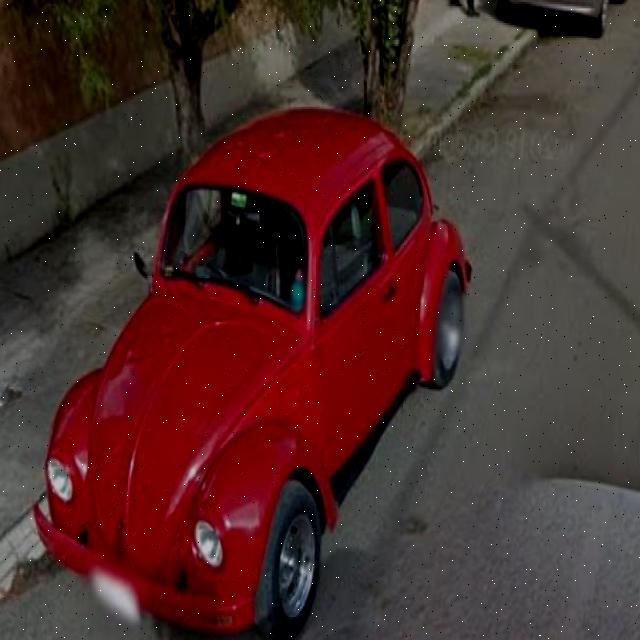car: (36, 99, 464, 640)
